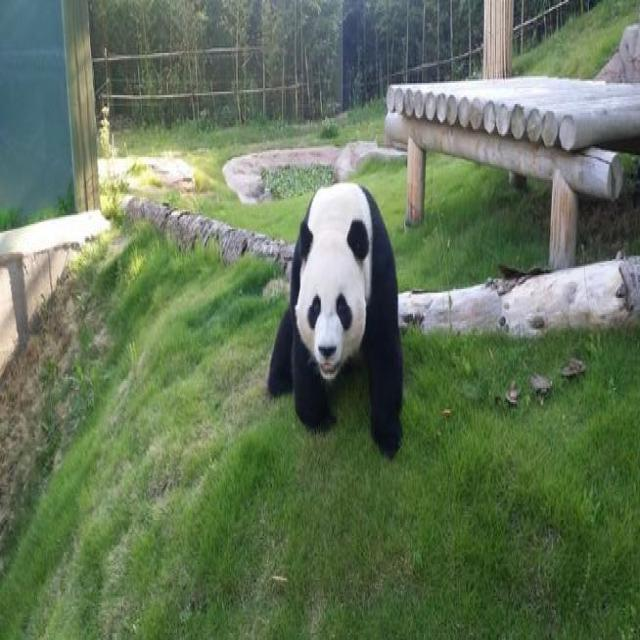panda: (265, 170, 437, 466)
